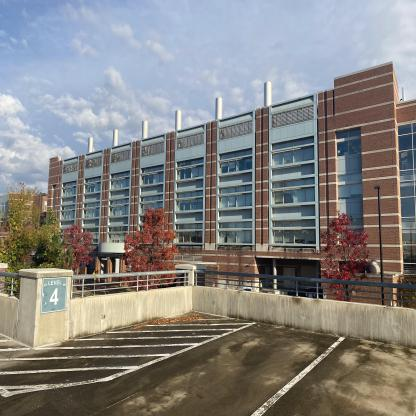EB-1: (48, 63, 414, 306)
